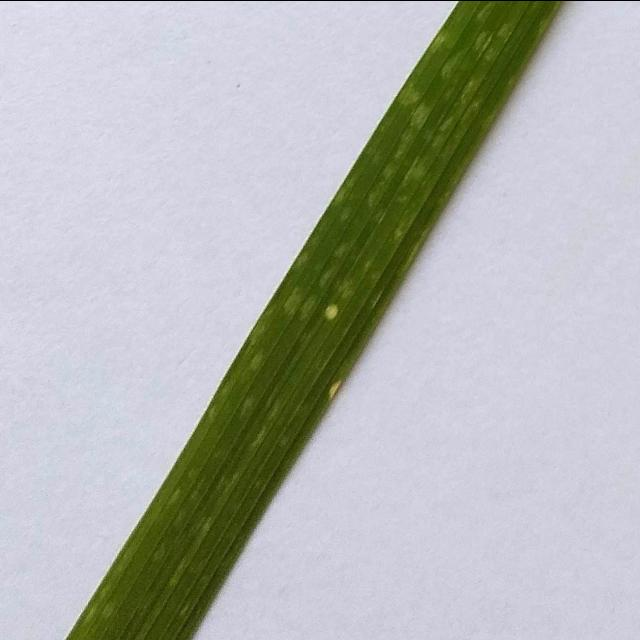Leaf_Blast: (322, 361, 356, 411), (313, 294, 357, 328)
